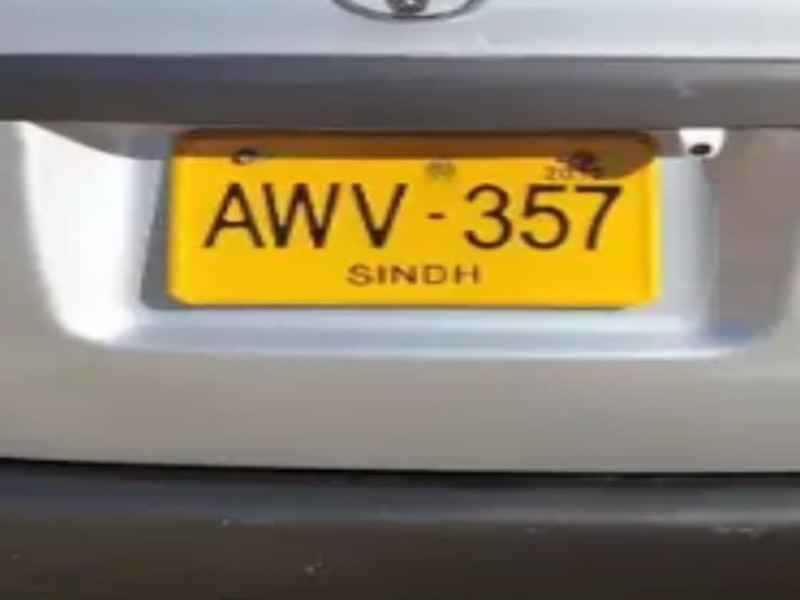License Plate: (162, 128, 661, 311)
